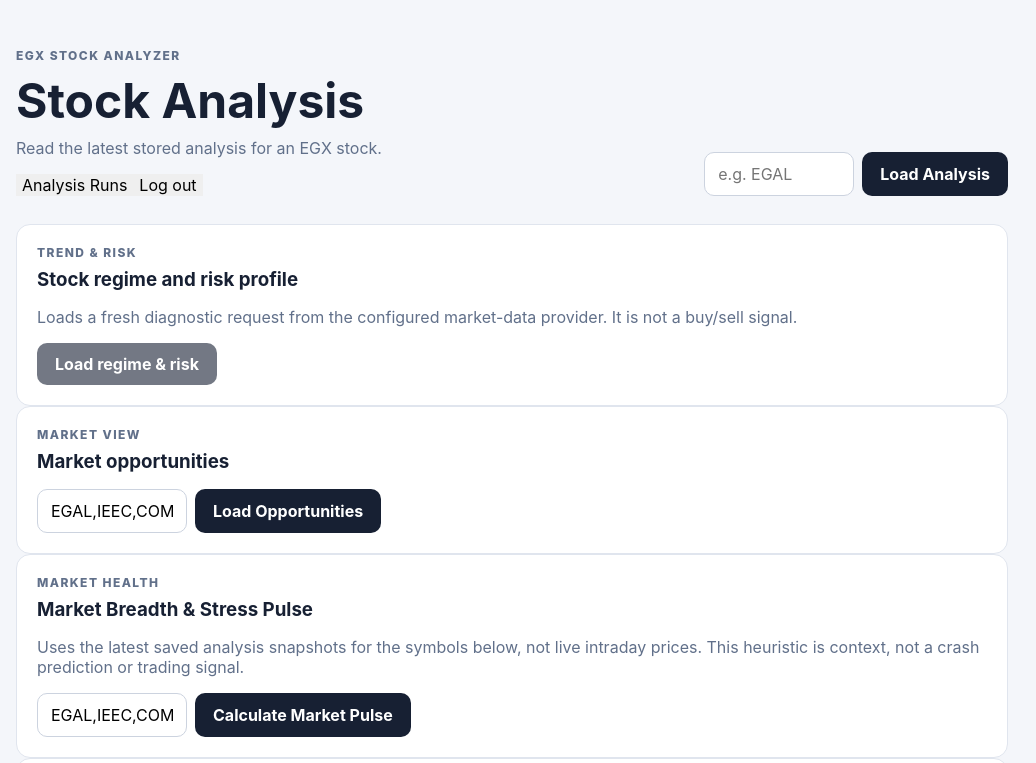
Test: Dashboard › keeps the technical report visible when related-news retrieval fails
The image size is (1036, 763).
Type "egal" into the field named "Stock Symbol" at (779, 174), box left=704, top=152, right=854, bottom=196
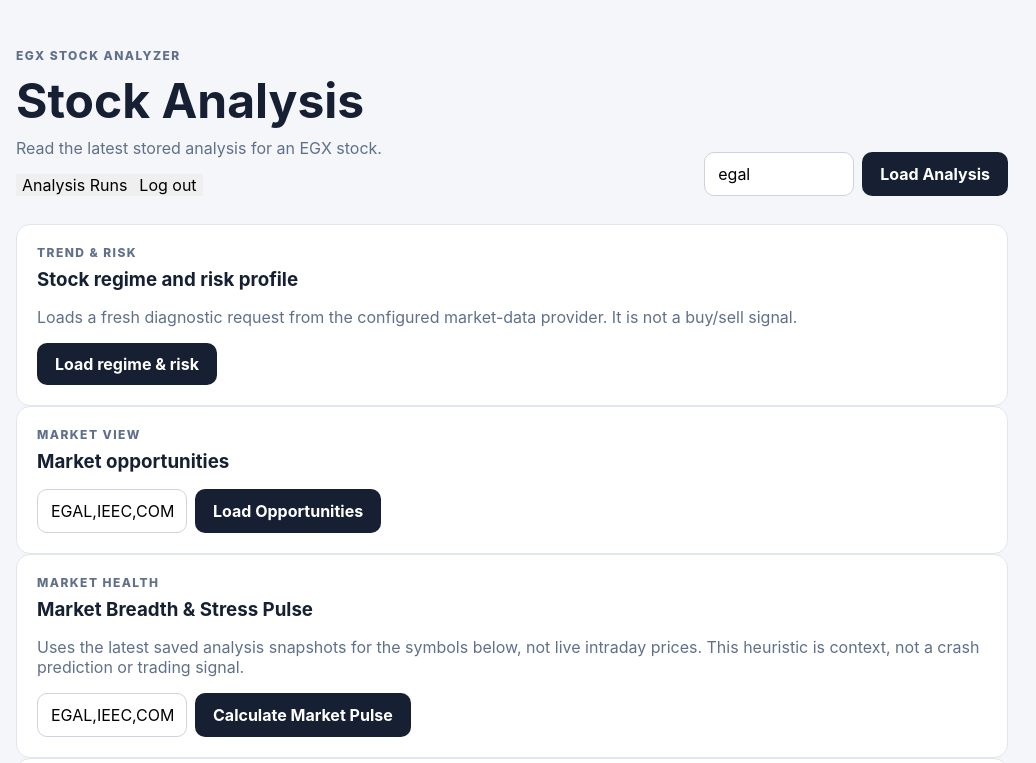
Click the button "Load Analysis" at (935, 174), box left=862, top=152, right=1008, bottom=196
(page scrolled)
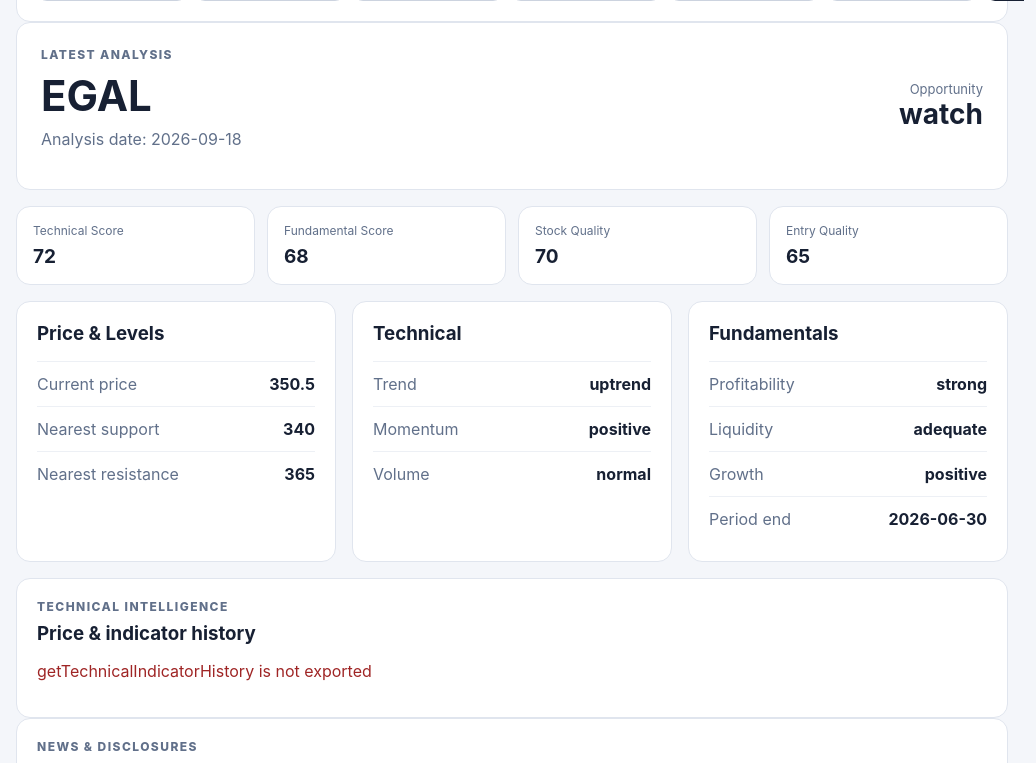
Expected: the heading "EGAL" is shown, left=41, top=70, right=152, bottom=121
Expected: the text "350.5" is shown, left=269, top=374, right=315, bottom=394
